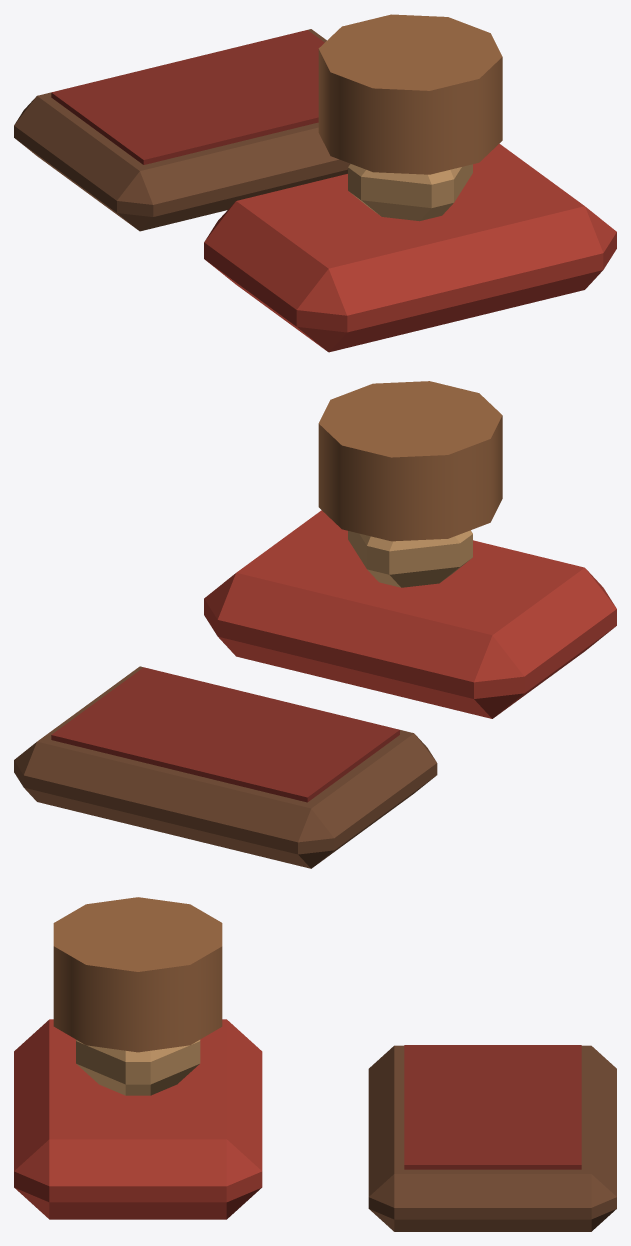
File: stamp.glb
3 views of the same model, one above another, from view 1: azimuth 30°, elevation 25°; view 2: azimuth 150°, elevation 25°; view 3: azimuth 270°, elevation 25° (orthographic). The views are drawn at different scales.
Parts seen in each view (by area): view 1: body; view 2: body; view 3: body.
Part boxes in pixels (bbox=[...]): body: bbox=[14, 14, 616, 352]; body: bbox=[14, 381, 616, 868]; body: bbox=[14, 897, 616, 1231].
Size of the model in its own units: 0.2 by 0.145 by 0.34.
